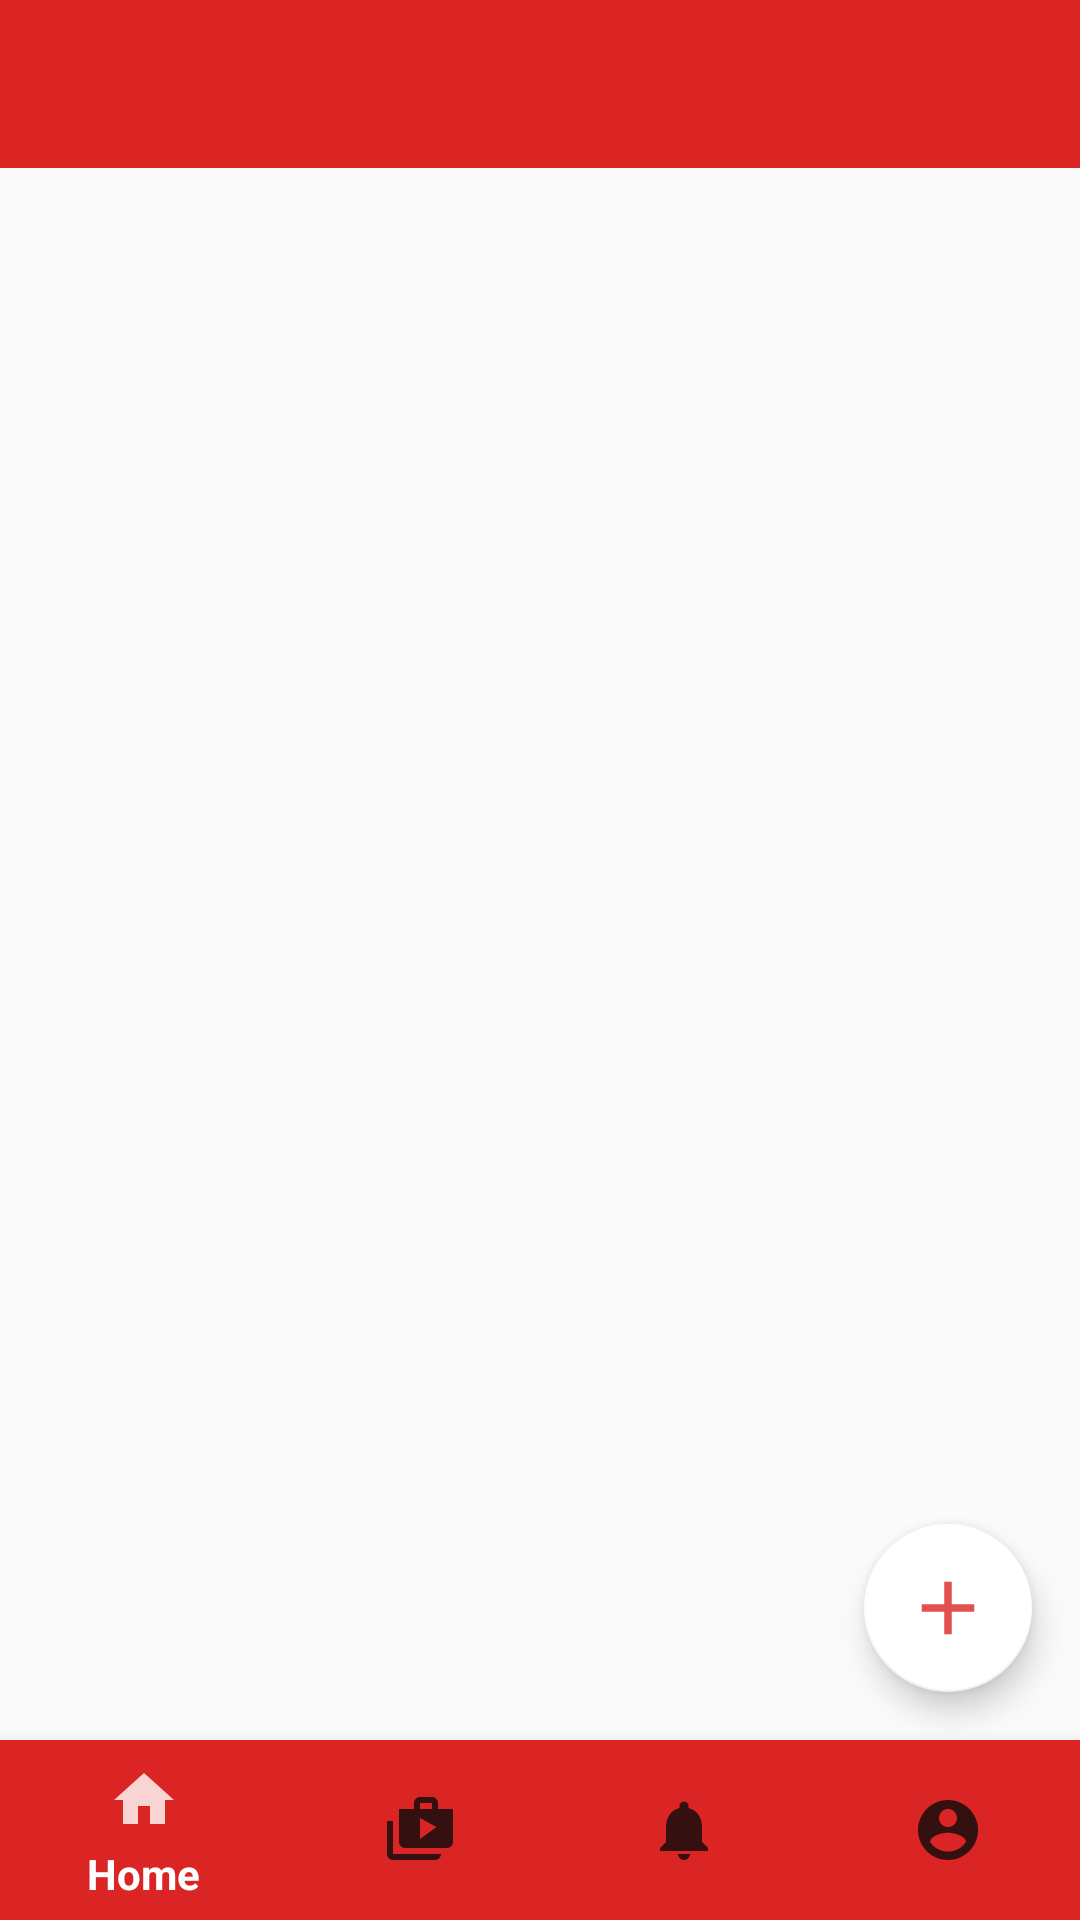

Icons on this 1080x1920 Android screen, each with its box as (x1, y1, x2, y2):
add: (870, 1581, 1032, 1692)
